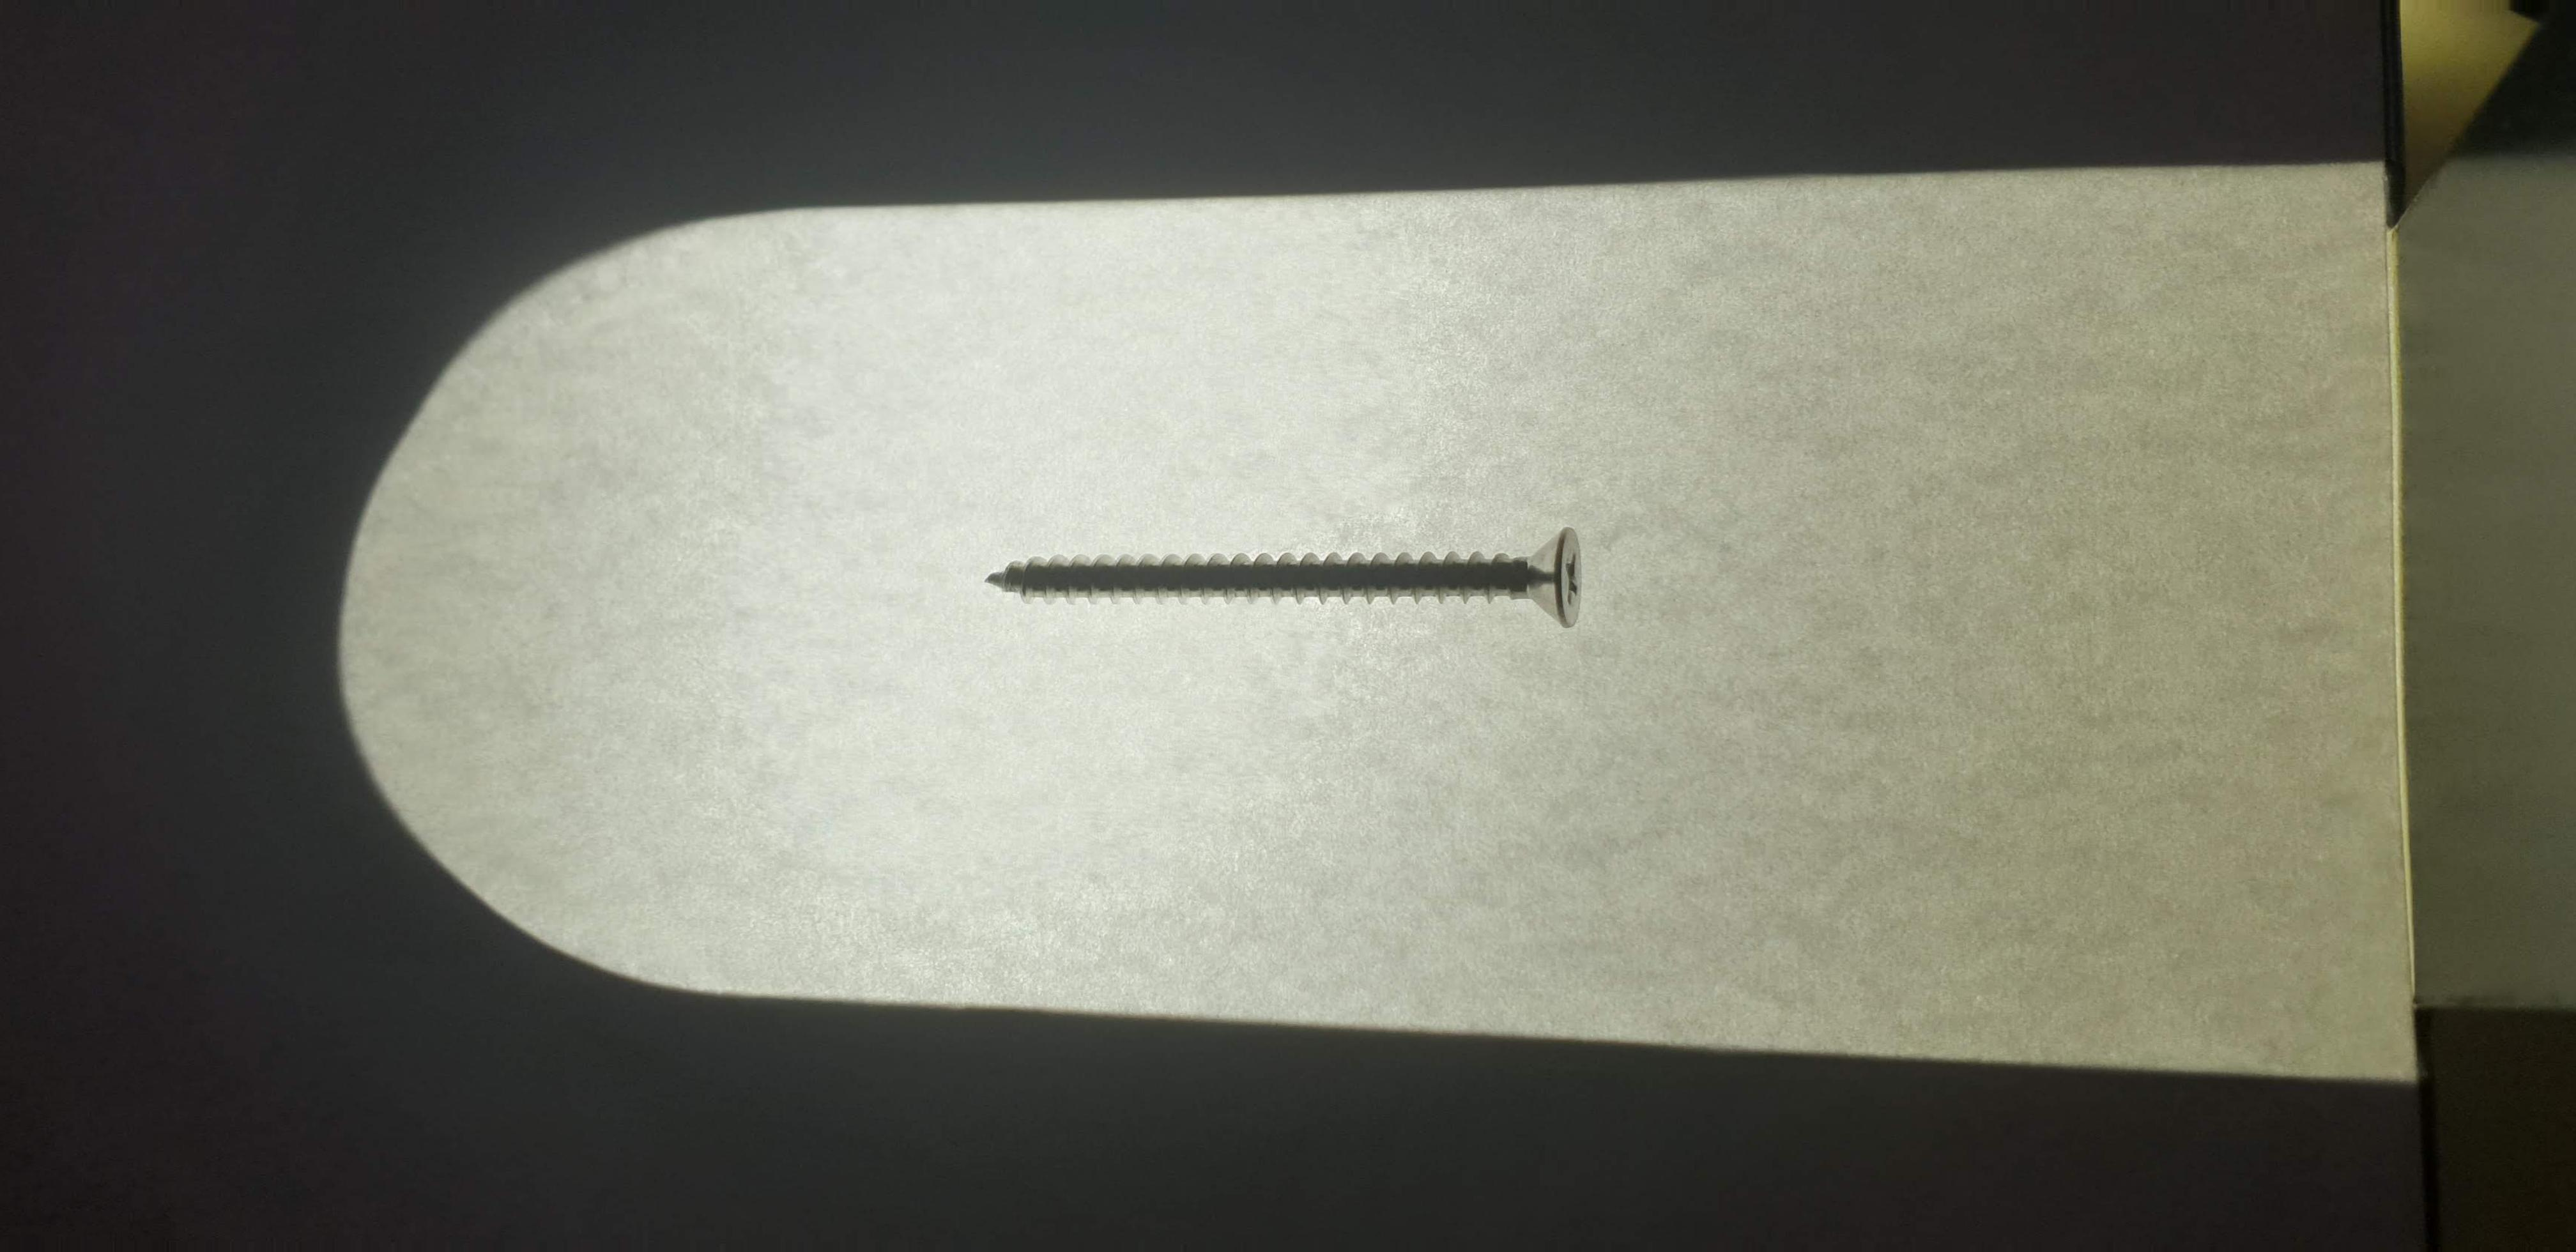S001: (958, 493, 1600, 664)
